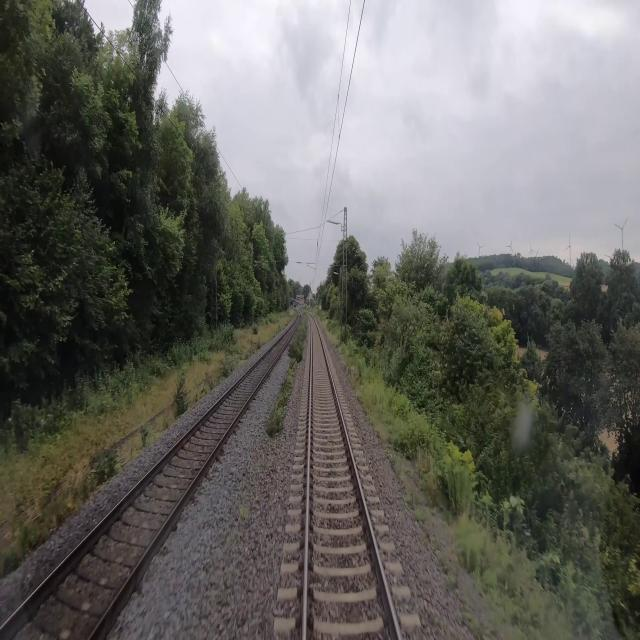Plant: (267, 311, 308, 436)
